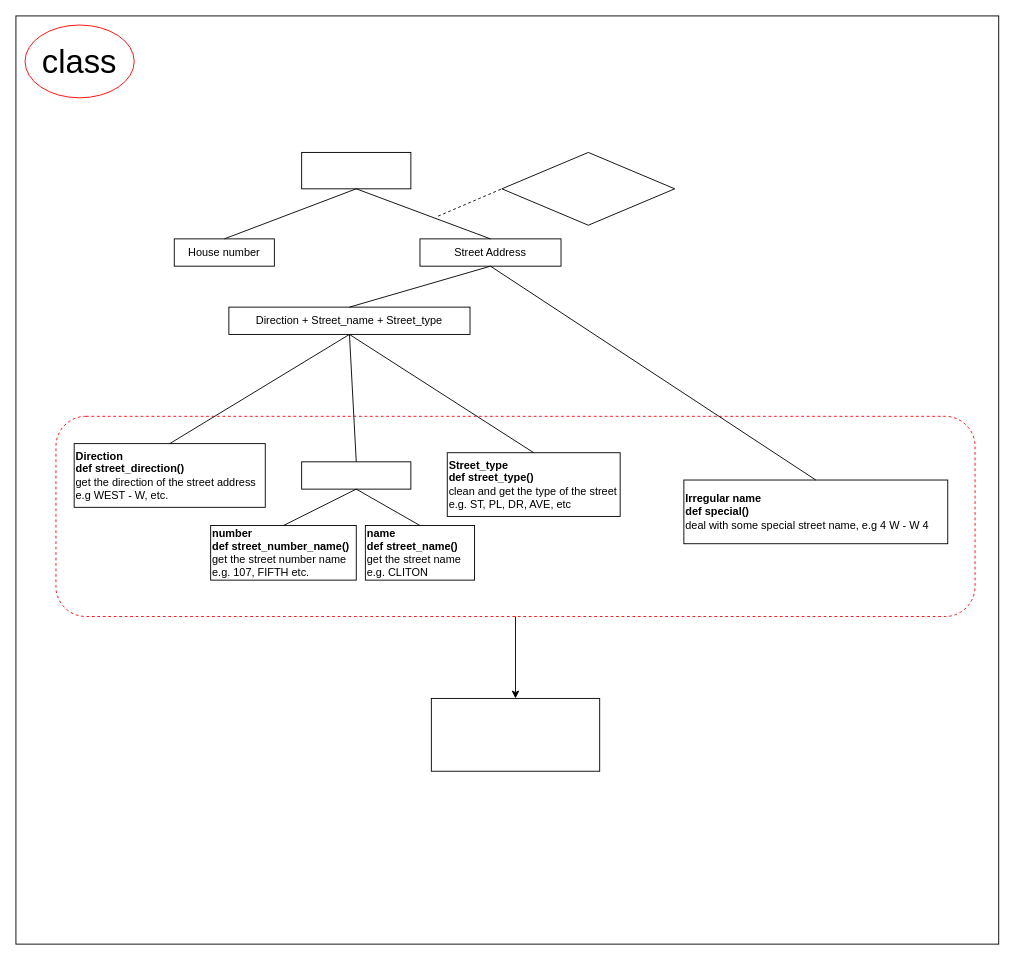
This 1015x960 diagram has some shape labels left out. Here are the shapes that lost their labels. From the top down, the centre of each, then its label:
At point 356,170: "Street_name (raw)".
At point 588,188: "def split(): remove the house number".
At point 356,475: "Street_name".
At point 515,734: "def merge() merge all columns and return the new standard address".
